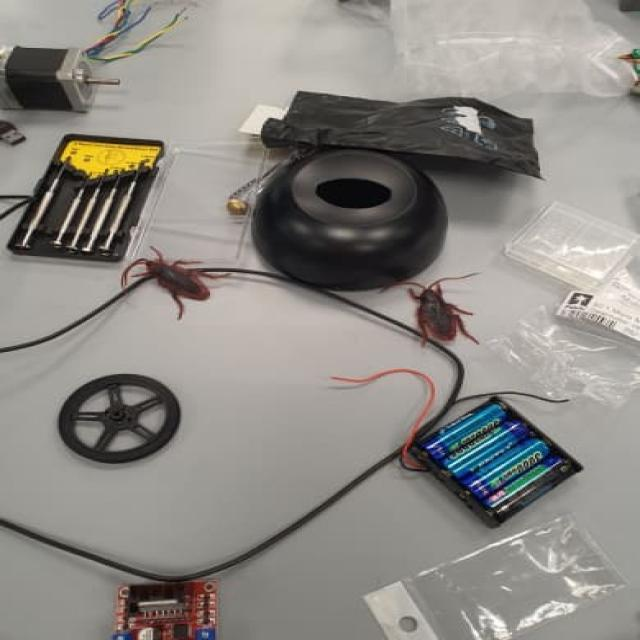Cockroach: (115, 235, 231, 327), (368, 267, 490, 348)
